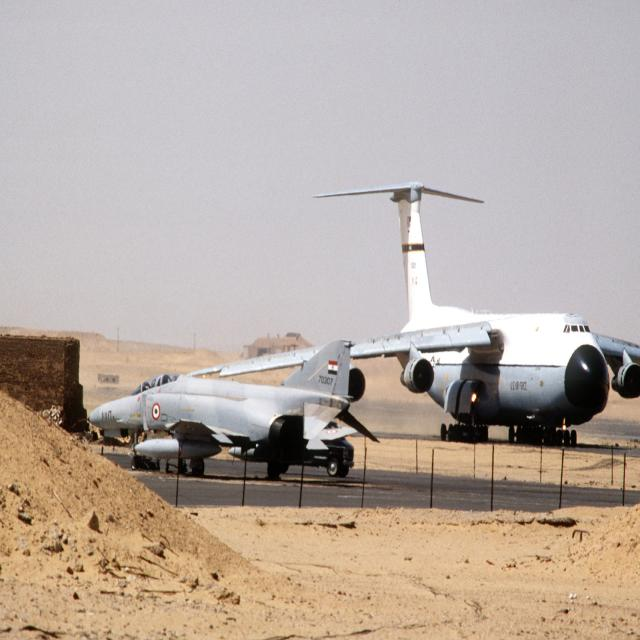MIL_Plane: (186, 136, 640, 401), (87, 339, 380, 480)
